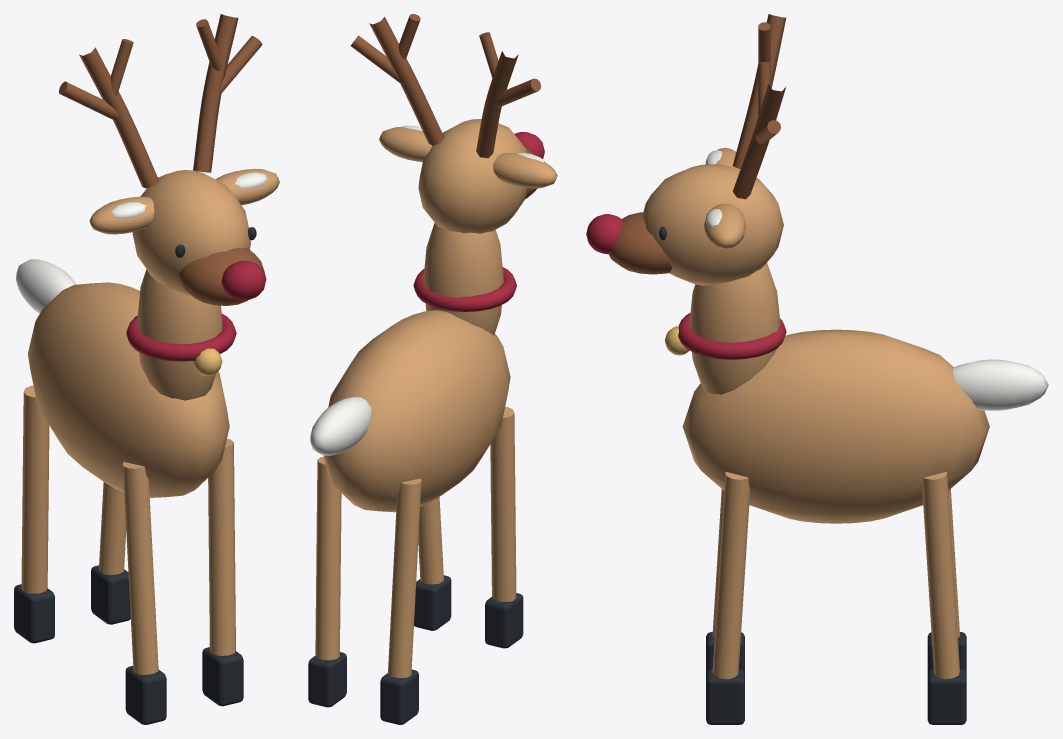
The model's file is christmas-storybook-harness-reindeer-691e514a__18777.glb.
3 views of the same model, side by side, from view 1: azimuth 30°, elevation 25°; view 2: azimuth 150°, elevation 25°; view 3: azimuth 270°, elevation 25° (orthographic). The views are drawn at different scales.
Visible parts, largest first — view 1: biscuit, oak, ink, berry, cream, brass; view 2: biscuit, ink, oak, cream, berry; view 3: biscuit, oak, ink, cream, berry.
Boxes of the visible parts, x1=… form: biscuit: x1=21, y1=168, x2=279, y2=674; oak: x1=59, y1=14, x2=264, y2=305; ink: x1=14, y1=227, x2=256, y2=724; berry: x1=126, y1=260, x2=266, y2=361; cream: x1=16, y1=172, x2=267, y2=313; brass: x1=193, y1=348, x2=222, y2=376; biscuit: x1=315, y1=119, x2=557, y2=678; ink: x1=308, y1=575, x2=523, y2=724; oak: x1=350, y1=14, x2=541, y2=198; cream: x1=310, y1=125, x2=545, y2=455; berry: x1=413, y1=132, x2=544, y2=311; biscuit: x1=642, y1=147, x2=989, y2=679; oak: x1=608, y1=14, x2=786, y2=274; ink: x1=659, y1=227, x2=966, y2=724; cream: x1=705, y1=150, x2=1048, y2=410; berry: x1=586, y1=214, x2=786, y2=359.
Size of the model in its own units: 0.705 by 2.23 by 1.41.
